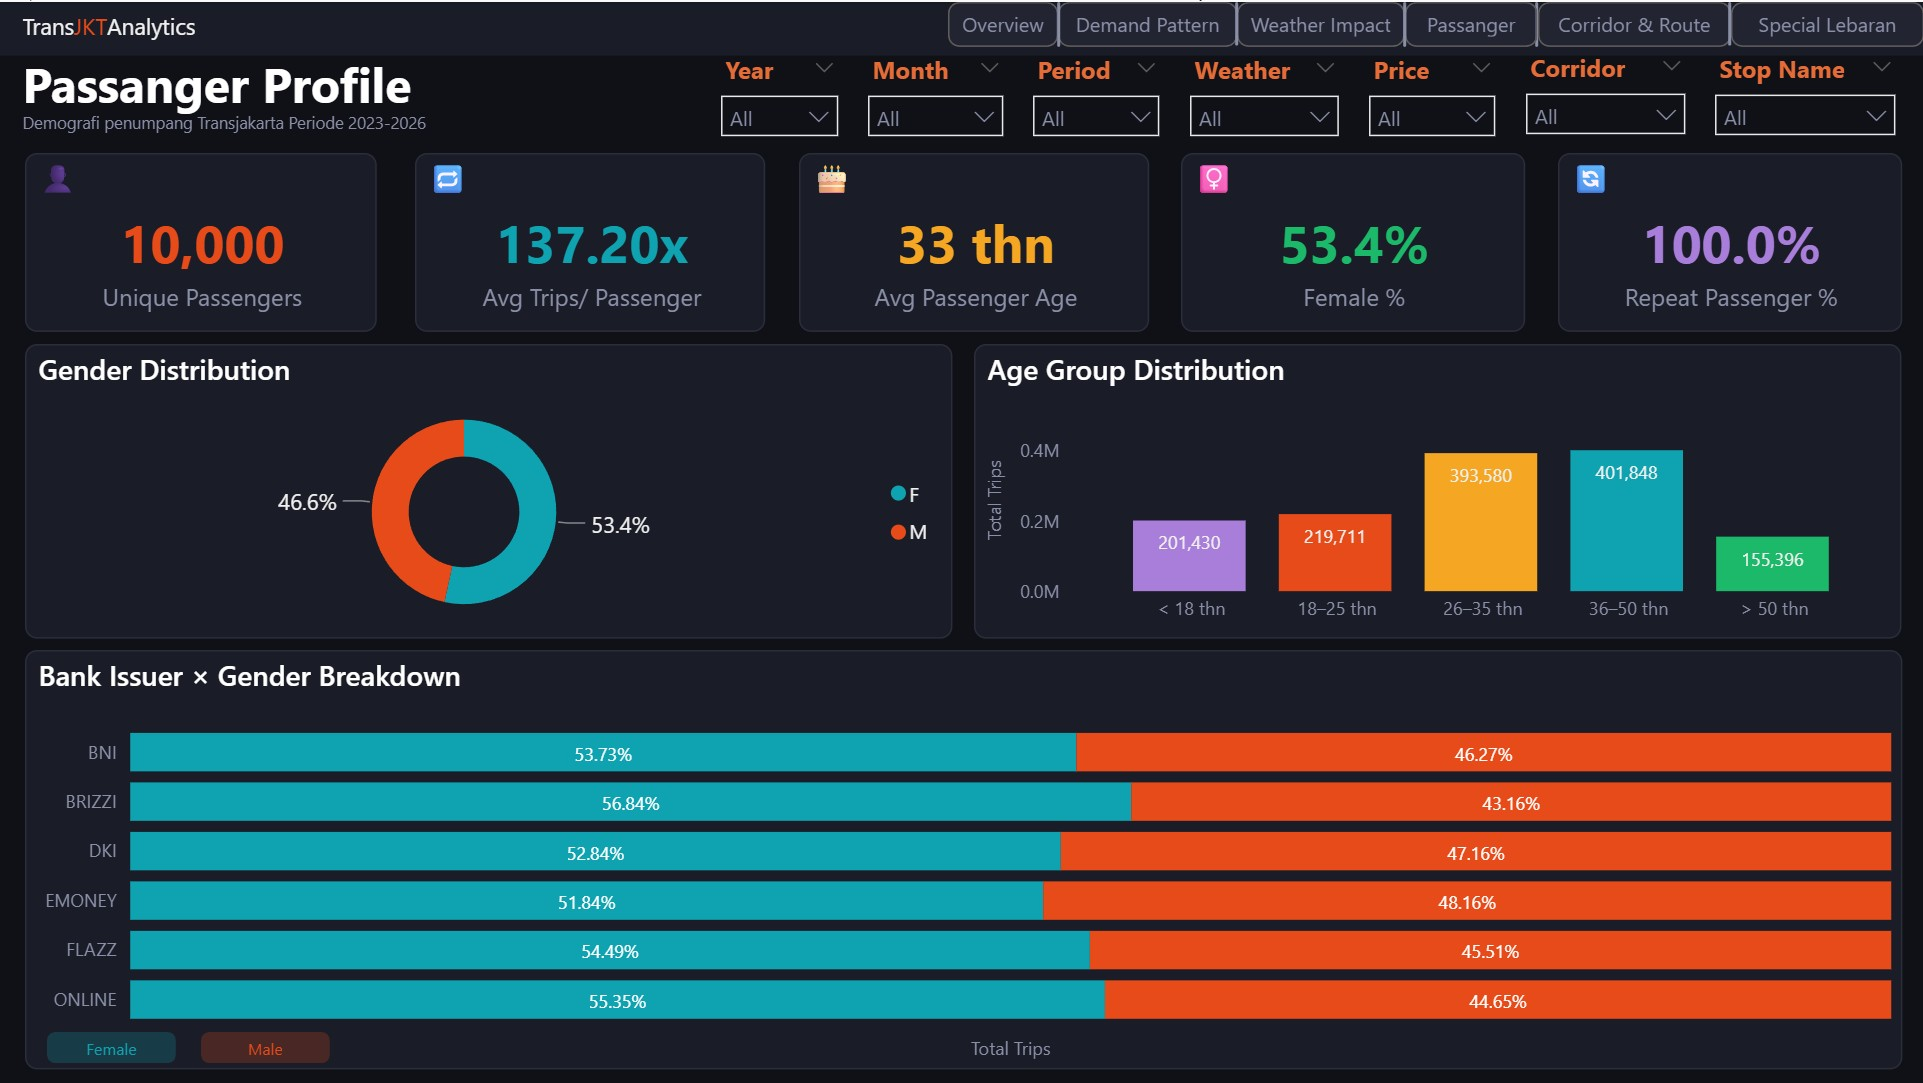

Layout of this report page (visuals, bound fields, positions):
{"tool":"powerbi","page":{"name":"PASSANGER PROFILE","canvas":[1280,720],"ordinal":3},"visuals":[{"type":"shape","box":[0,0,1280.3,35.6],"z":0},{"type":"actionButton","box":[630.9,0,73.3,29.8],"z":0,"group":"g1"},{"type":"shape","box":[1002.5,0,40.9,29.8],"z":0,"group":"g3"},{"type":"htmlContent443BE3AD55E043BF878BED274D3A6855","fields":{"content":["FACT_TRANSJAKARTA.Navbar Brand"]},"box":[9.8,0,135.8,35.6],"z":1000},{"type":"group","id":"g1","title":"Group 2","box":[630.9,0,649.1,29.8],"z":1000,"group":"g3"},{"type":"actionButton","box":[704.2,0,119.3,29.8],"z":1000,"group":"g1"},{"type":"actionButton","box":[823.5,0,111.5,29.8],"z":2000,"group":"g1"},{"type":"card","title":"👤","fields":{"Values":["FACT_TRANSJAKARTA.Unique Passengers"]},"box":[16.6,100.1,234.1,119.2],"z":2000},{"type":"actionButton","box":[935,0,88.2,29.8],"z":3000,"group":"g1"},{"type":"card","title":"🔁","fields":{"Values":["FACT_TRANSJAKARTA.Avg Trips per Passenger"]},"box":[275.8,100.1,233.4,119.2],"z":3000},{"type":"actionButton","box":[1023.2,0,128.4,29.8],"z":4000,"group":"g1"},{"type":"card","title":"🎂","fields":{"Values":["FACT_TRANSJAKARTA.Avg Passenger Age"]},"box":[531.4,100.1,233.4,119.2],"z":4000},{"type":"actionButton","box":[1151.6,0,128.4,29.8],"z":5000,"group":"g1"},{"type":"card","title":"♀️","fields":{"Values":["FACT_TRANSJAKARTA.Female %"]},"box":[785.7,100.1,228.5,119.2],"z":5000},{"type":"shape","box":[684.1,0,40.9,29.8],"z":6000,"group":"g1"},{"type":"card","title":"🔄","fields":{"Values":["FACT_TRANSJAKARTA.Repeat Passenger %"]},"box":[1036.4,100.1,228.5,119.2],"z":6000},{"type":"shape","box":[802.7,0,40.9,29.2],"z":7000,"group":"g1"},{"type":"donutChart","title":"Gender Distribution","fields":{"Y":["FACT_TRANSJAKARTA.Total Trips"],"Category":["FACT_TRANSJAKARTA.payCardSex"]},"box":[16.4,227.9,617.1,196.4],"z":7000},{"type":"shape","box":[914.3,0,40.9,29.8],"z":8000,"group":"g1"},{"type":"hundredPercentStackedBarChart","title":"Bank Issuer × Gender Breakdown","fields":{"Category":["FACT_TRANSJAKARTA.payCardBank"],"Series":["FACT_TRANSJAKARTA.payCardSex"],"Y":["FACT_TRANSJAKARTA.Total Trips"]},"box":[16.4,431.4,1248.6,279.3],"z":8000},{"type":"shape","box":[1130.8,0,40.9,29.2],"z":9000,"group":"g1"},{"type":"clusteredColumnChart","title":"Age Group Distribution","fields":{"Y":["FACT_TRANSJAKARTA.Total Trips"],"Category":["FACT_TRANSJAKARTA.Age Group"]},"box":[647.9,227.9,617.1,196.4],"z":9000},{"type":"textbox","box":[9.8,27,350.2,57.1],"z":10000},{"type":"textbox","box":[9.8,65.1,350.2,28.9],"z":11000},{"type":"slicer","fields":{"Values":["DIM_CALENDAR.Year"]},"box":[470,28.9,97.7,70.6],"z":12000,"group":"g2"},{"type":"shape","box":[31.4,685,85.7,20.7],"z":12000},{"type":"slicer","fields":{"Values":["DIM_CALENDAR.Weekday_Weekend"]},"box":[677.6,28.9,104.4,70.6],"z":13000,"group":"g2"},{"type":"shape","box":[133.6,685,85.7,20.7],"z":13000},{"type":"group","id":"g2","title":"Group 1","box":[470,27.6,801.1,71.9],"z":14000},{"type":"group","id":"g3","title":"Group 3","box":[630.9,0,649.1,29.8],"z":15000},{"type":"slicer","fields":{"Values":["DIM_ROUTES_SLICER.Concated Route"]},"box":[1005.3,27.6,125.9,71.3],"z":15000,"group":"g2"},{"type":"slicer","fields":{"Values":["DIM_CALENDAR.MonthName"]},"box":[567.7,28.9,110,70.6],"z":17000,"group":"g2"},{"type":"slicer","fields":{"Values":["DIM_FARES.Price"]},"box":[901.3,28.9,103.8,70.6],"z":18000,"group":"g2"},{"type":"slicer","fields":{"Values":["DIM_STOPS.StopName"]},"box":[1131,28.3,140.1,70.6],"z":19000,"group":"g2"},{"type":"slicer","fields":{"Values":["DIM_WEATHER.isRain"]},"box":[782.1,28.9,119.2,70.6],"z":20000,"group":"g2"}]}

Visuals, with their boxes in screenshot pixels (x1, y1, x2, y2), scaled from the page's 1280x720 canvas onto the 1923x1083 screenshot:
shape: 0, 0, 1922, 54
actionButton: 948, 0, 1058, 45
shape: 1506, 0, 1568, 45
htmlContent443BE3AD55E043BF878BED274D3A6855 - FACT_TRANSJAKARTA.Navbar Brand: 15, 0, 219, 54
"Group 2" group: 948, 0, 1922, 45
actionButton: 1058, 0, 1237, 45
actionButton: 1237, 0, 1405, 45
"👤" card: 25, 151, 377, 330
actionButton: 1405, 0, 1537, 45
"🔁" card: 414, 151, 765, 330
actionButton: 1537, 0, 1730, 45
"🎂" card: 798, 151, 1149, 330
actionButton: 1730, 0, 1922, 45
"♀️" card: 1180, 151, 1524, 330
shape: 1028, 0, 1089, 45
"🔄" card: 1557, 151, 1900, 330
shape: 1206, 0, 1267, 44
"Gender Distribution" donutChart: 25, 343, 952, 638
shape: 1374, 0, 1435, 45
"Bank Issuer × Gender Breakdown" hundredPercentStackedBarChart: 25, 649, 1900, 1069
shape: 1699, 0, 1760, 44
"Age Group Distribution" clusteredColumnChart: 973, 343, 1900, 638
textbox: 15, 41, 541, 127
textbox: 15, 98, 541, 141
slicer - DIM_CALENDAR.Year: 706, 43, 853, 150
shape: 47, 1030, 176, 1061
slicer - DIM_CALENDAR.Weekday_Weekend: 1018, 43, 1175, 150
shape: 201, 1030, 329, 1061
"Group 1" group: 706, 42, 1910, 150
"Group 3" group: 948, 0, 1922, 45
slicer - DIM_ROUTES_SLICER.Concated Route: 1510, 42, 1699, 149
slicer - DIM_CALENDAR.MonthName: 853, 43, 1018, 150
slicer - DIM_FARES.Price: 1354, 43, 1510, 150
slicer - DIM_STOPS.StopName: 1699, 43, 1910, 149
slicer - DIM_WEATHER.isRain: 1175, 43, 1354, 150
